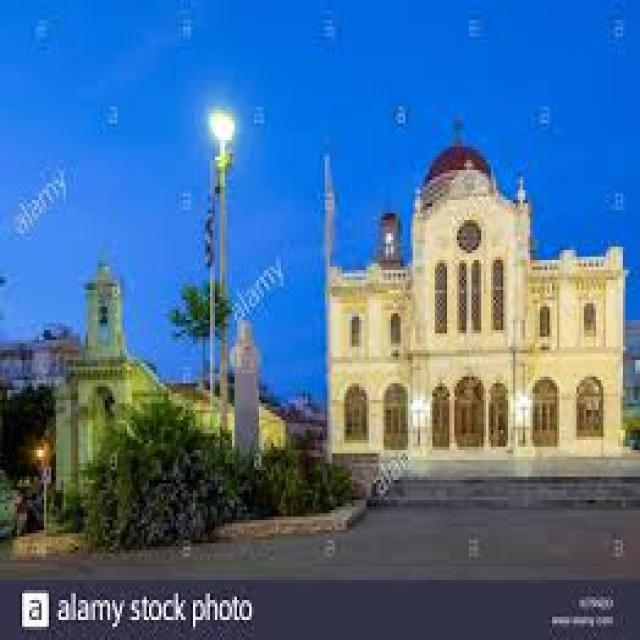Agios Minas: (324, 124, 628, 467)
